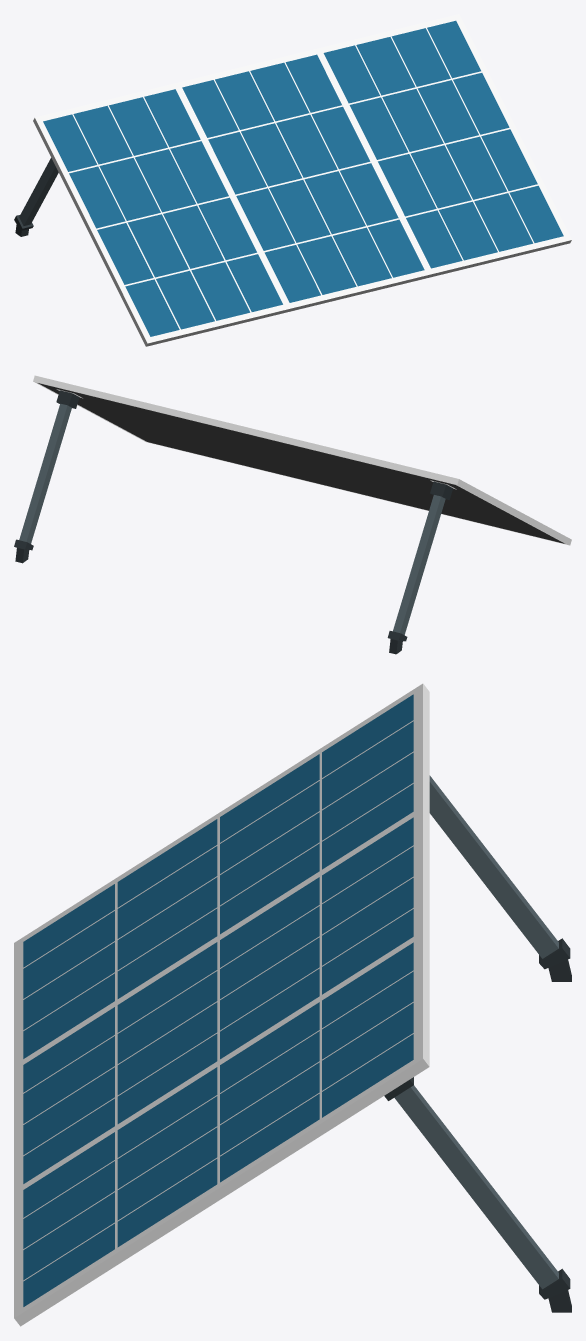
File: RoofAcc_SolarPanel.fbx
3 views of the same model, one above another, from view 1: azimuth 30°, elevation 25°; view 2: azimuth 150°, elevation 25°; view 3: azimuth 270°, elevation 25° (orthographic). The views are drawn at different scales.
Visible parts, largest first — view 1: RoofAcc_SolarPanel; view 2: RoofAcc_SolarPanel; view 3: RoofAcc_SolarPanel.
Part boxes in pixels (box(x1,y1,x2,y2)): RoofAcc_SolarPanel: box(14, 14, 571, 346); RoofAcc_SolarPanel: box(14, 375, 571, 654); RoofAcc_SolarPanel: box(14, 683, 571, 1326).
Size of the model in its own units: 78.4 by 26.61 by 49.27.
